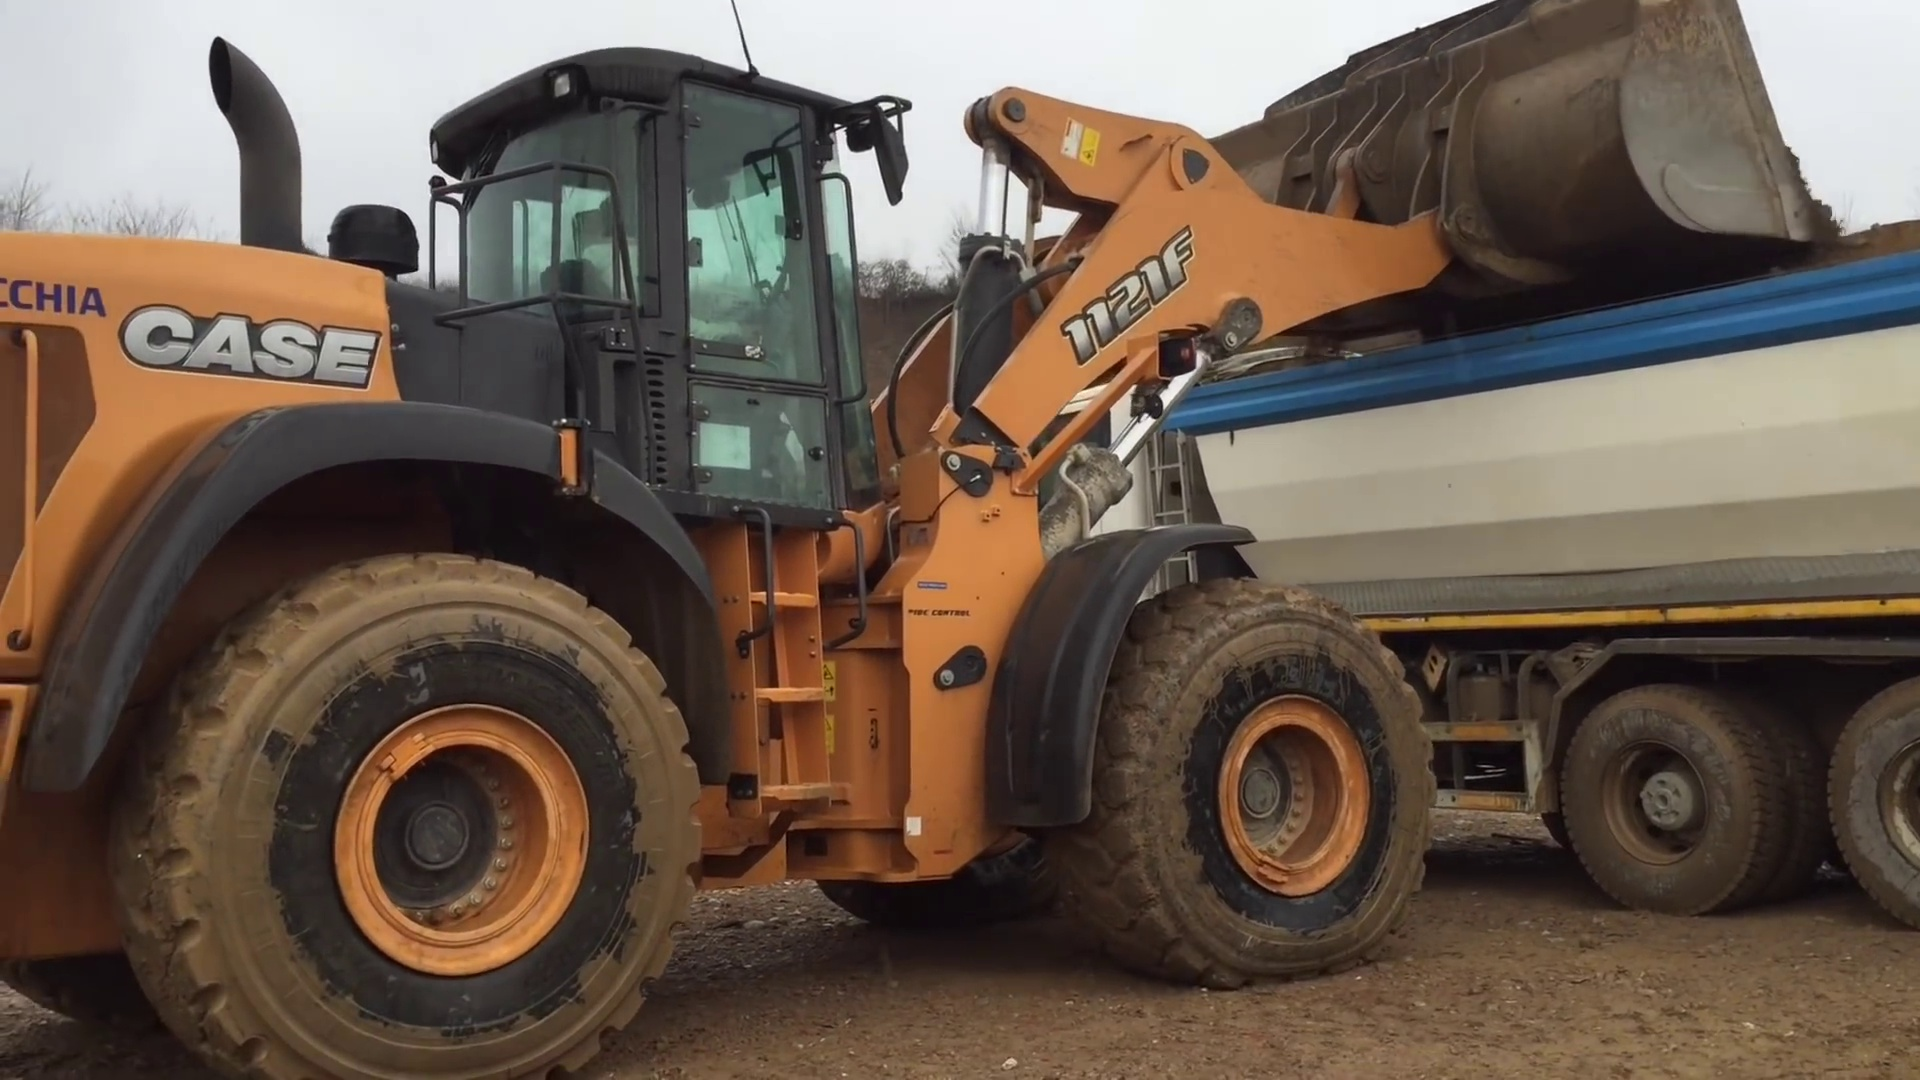truck: (989, 244, 1920, 927)
wheel loader: (5, 22, 1842, 1077)
